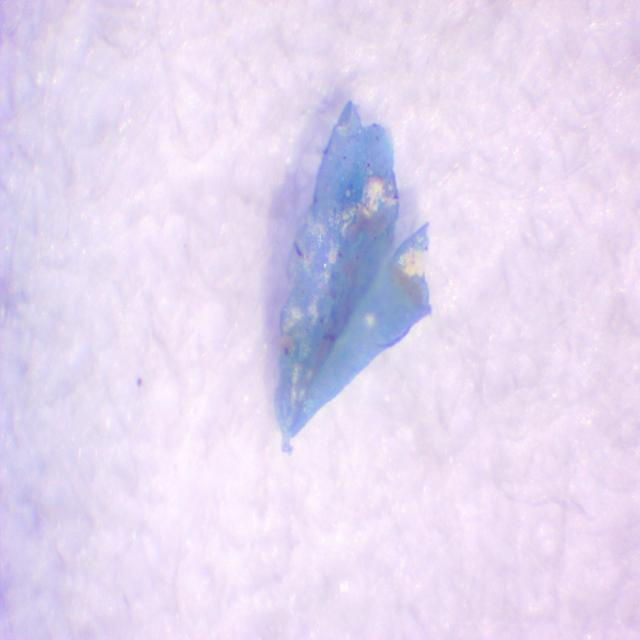microplastic: (273, 102, 431, 454)
